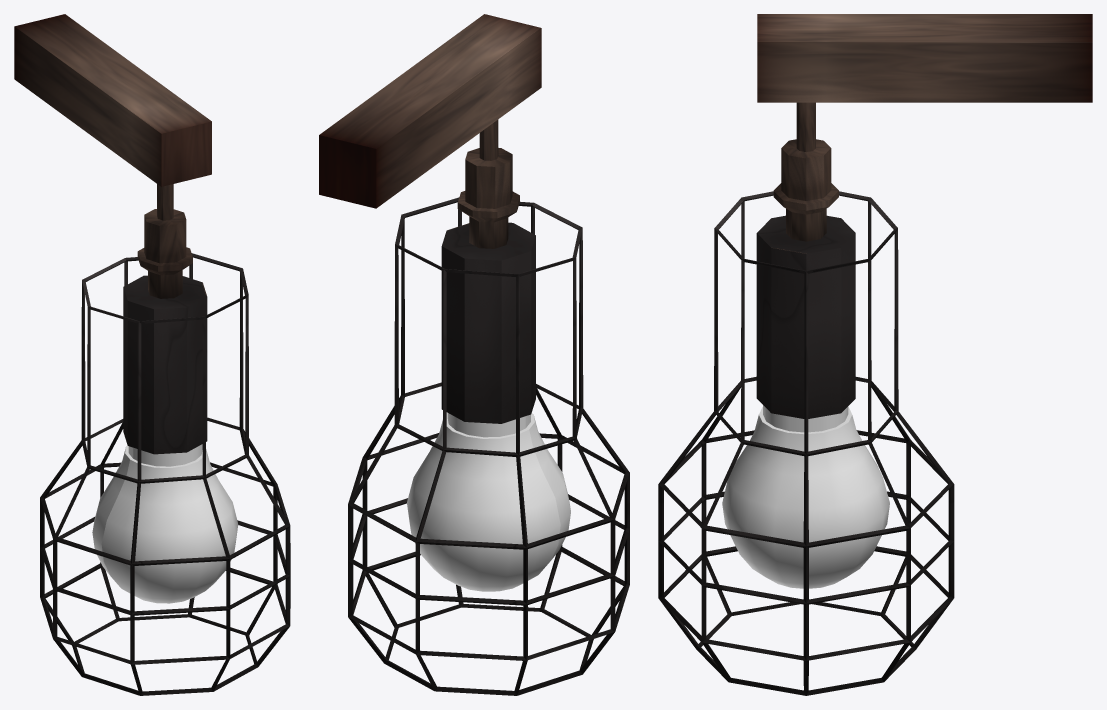
File: lightsource(textured).fbx
The picture shows the model from 3 angles, left to right: view 1: azimuth 30°, elevation 25°; view 2: azimuth 150°, elevation 25°; view 3: azimuth 270°, elevation 25°; orthographic projection. The views are drawn at different scales.
Parts seen in each view (by area): view 1: lightsource body, lightsource glass; view 2: lightsource body, lightsource glass; view 3: lightsource body, lightsource glass.
Part boxes in pixels (bbox=[...]): lightsource body: bbox=[14, 14, 290, 695]; lightsource glass: bbox=[92, 444, 238, 603]; lightsource body: bbox=[319, 14, 629, 695]; lightsource glass: bbox=[407, 412, 570, 591]; lightsource body: bbox=[658, 14, 1092, 695]; lightsource glass: bbox=[722, 405, 889, 588].
Bounding box in the file's own units: 147 × 342 × 216.
2 materials, 1 textured.
